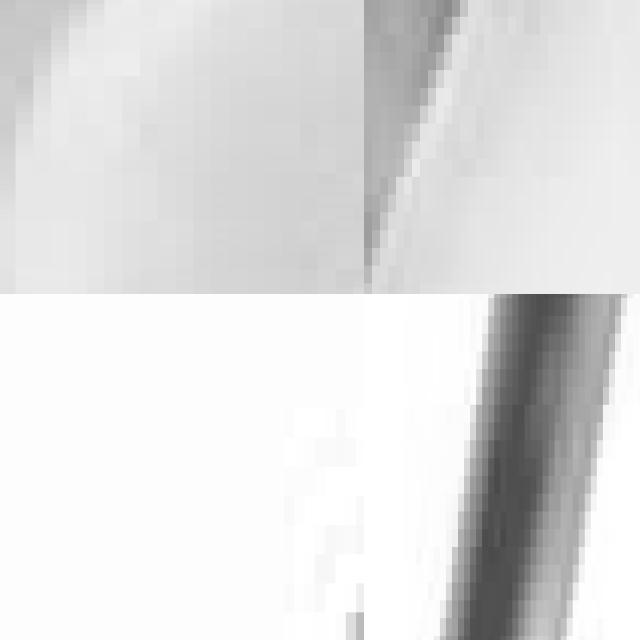spoons: (0, 0, 364, 294)
